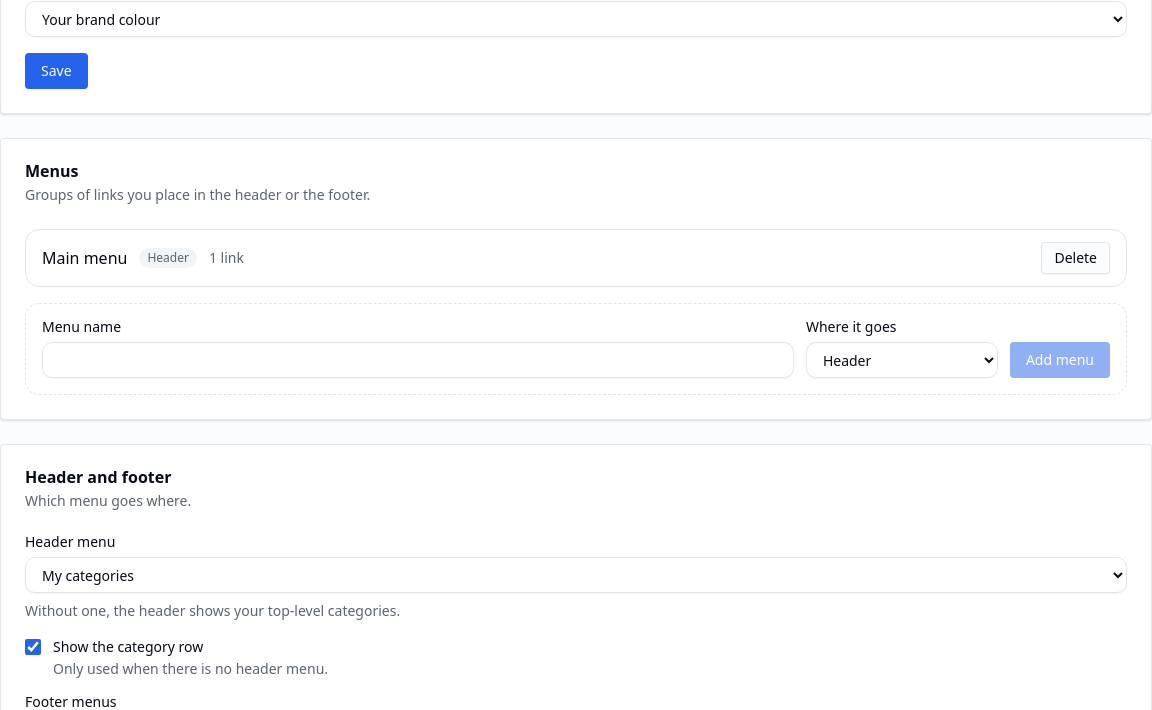
Test: where menus go › starts a menu and opens it
The width and height of the screenshot is (1152, 710).
(page scrolled)
Type "Help" into the field labelled "Menu name" at (418, 360), box [42,342,794,378]
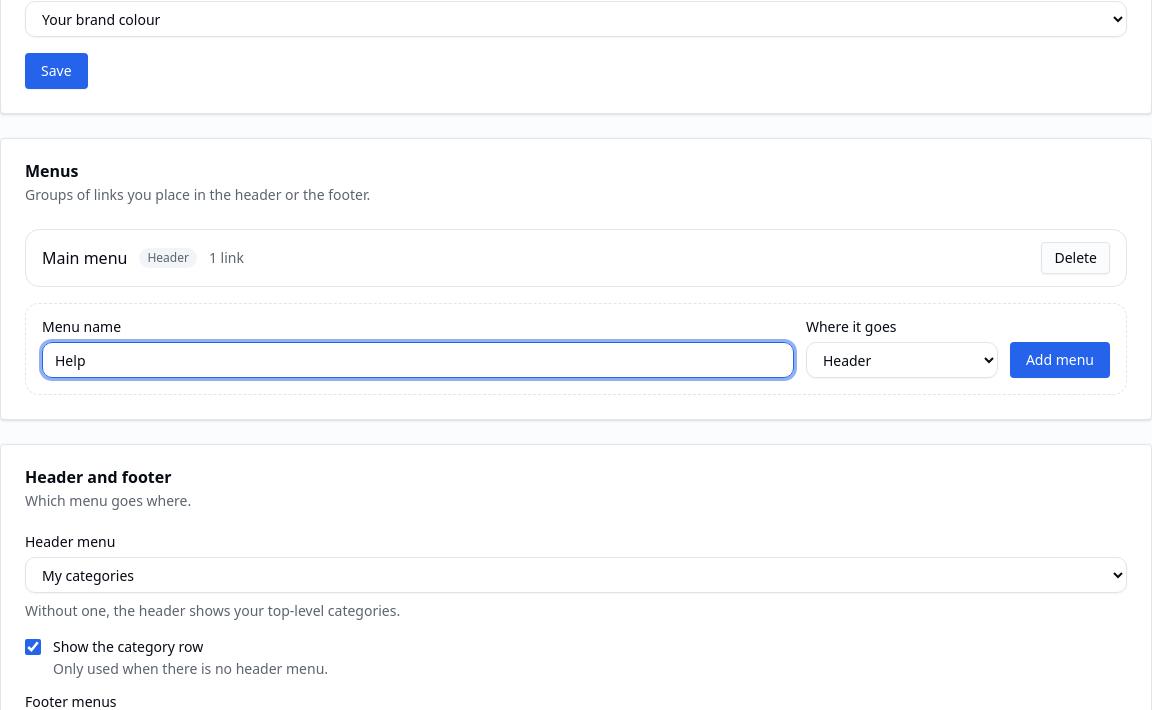
Select "Footer" in the dropdown labelled "Where it goes" at (902, 360), box [806,342,998,378]
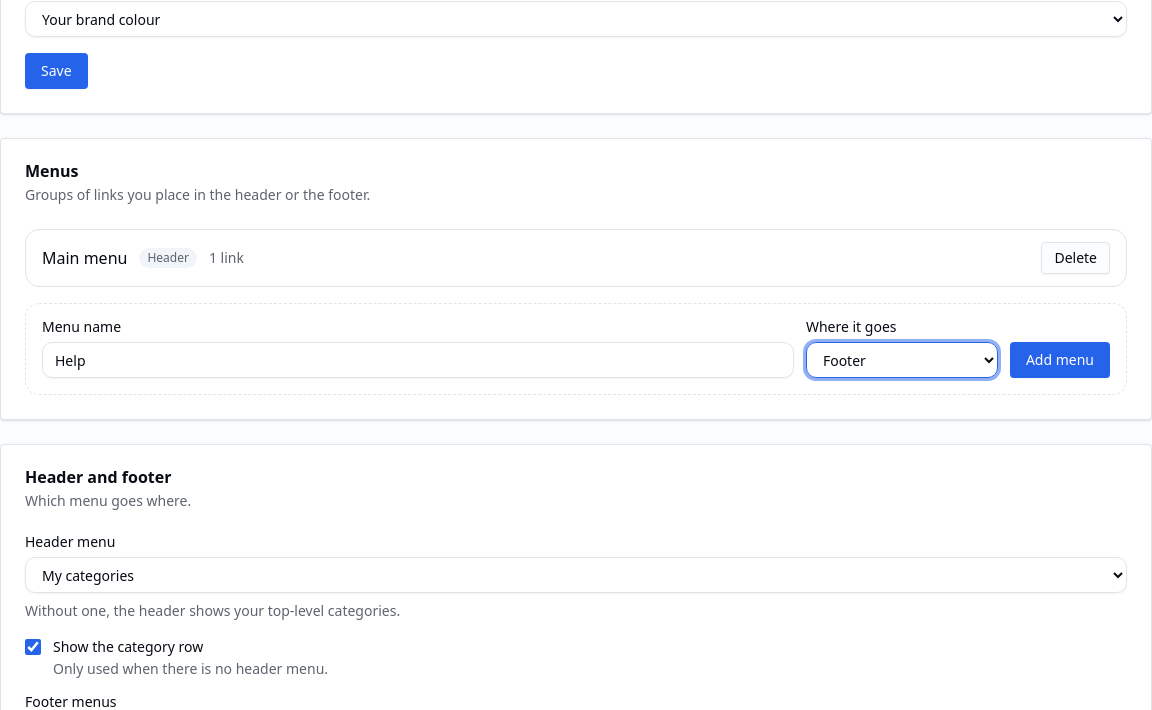
Click the button "Add menu" at (1060, 360), box [1010,342,1110,378]
(page scrolled)
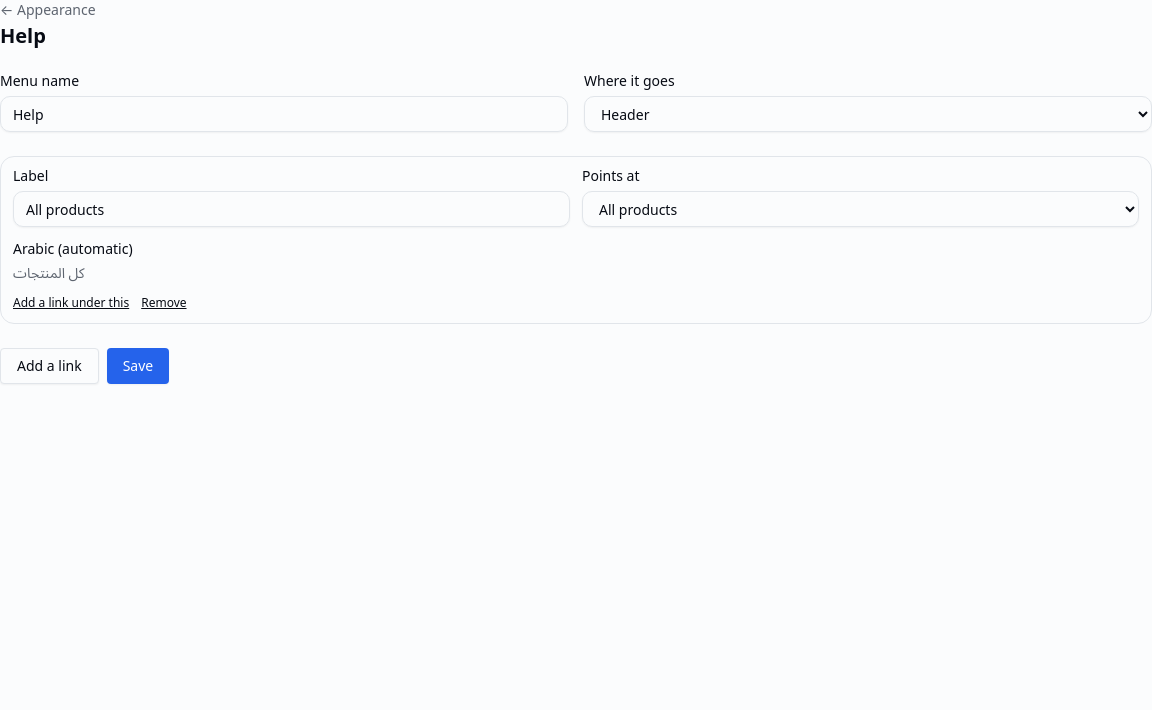
Expected: the heading "Help" is shown, [0,22,46,49]
